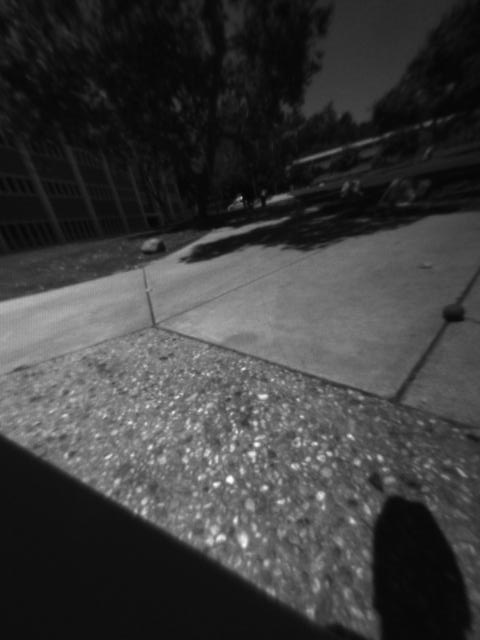dogtoy: (435, 298, 474, 330)
